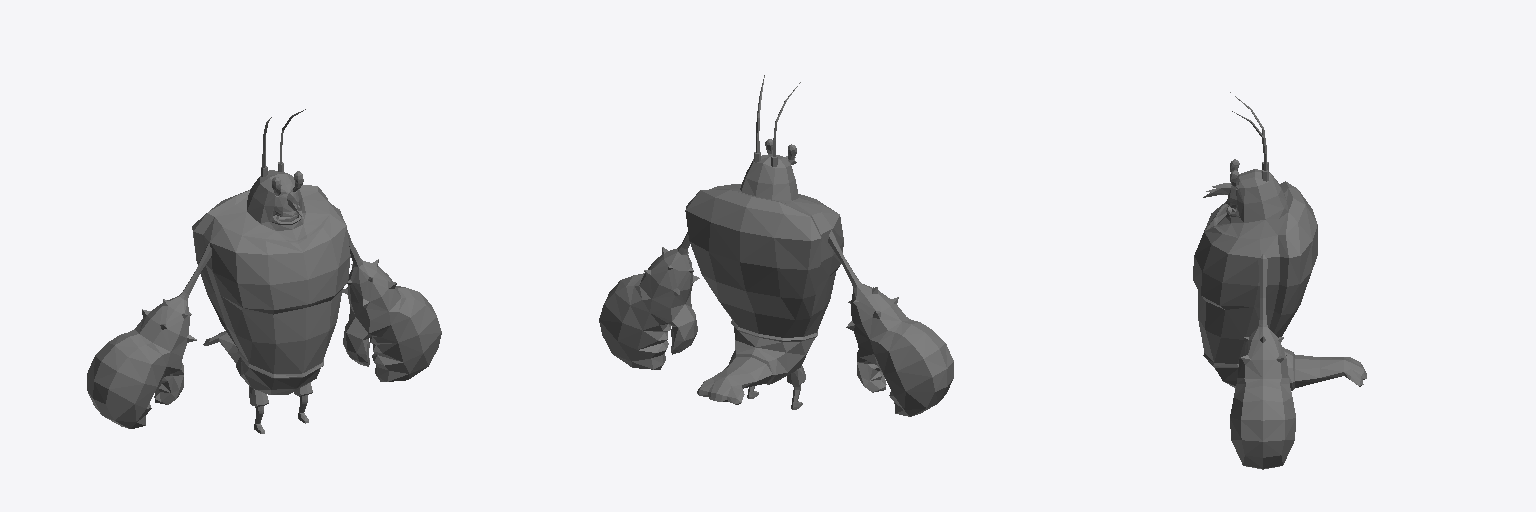
Rendered from Larry.obj.
3 views of the same model, side by side, from view 1: azimuth 30°, elevation 25°; view 2: azimuth 150°, elevation 25°; view 3: azimuth 270°, elevation 25° (orthographic).
Visible parts, largest first — view 1: Material__25; view 2: Material__25; view 3: Material__25.
Part boxes in pixels (x1,y1,x2,y2): Material__25: (87,109,441,433); Material__25: (599,75,953,416); Material__25: (1193,92,1366,469).
Size of the model in its own units: 10.77 by 9.61 by 4.77.